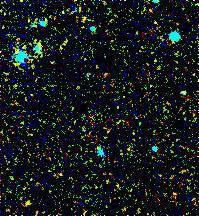star: (11, 189, 41, 216)
